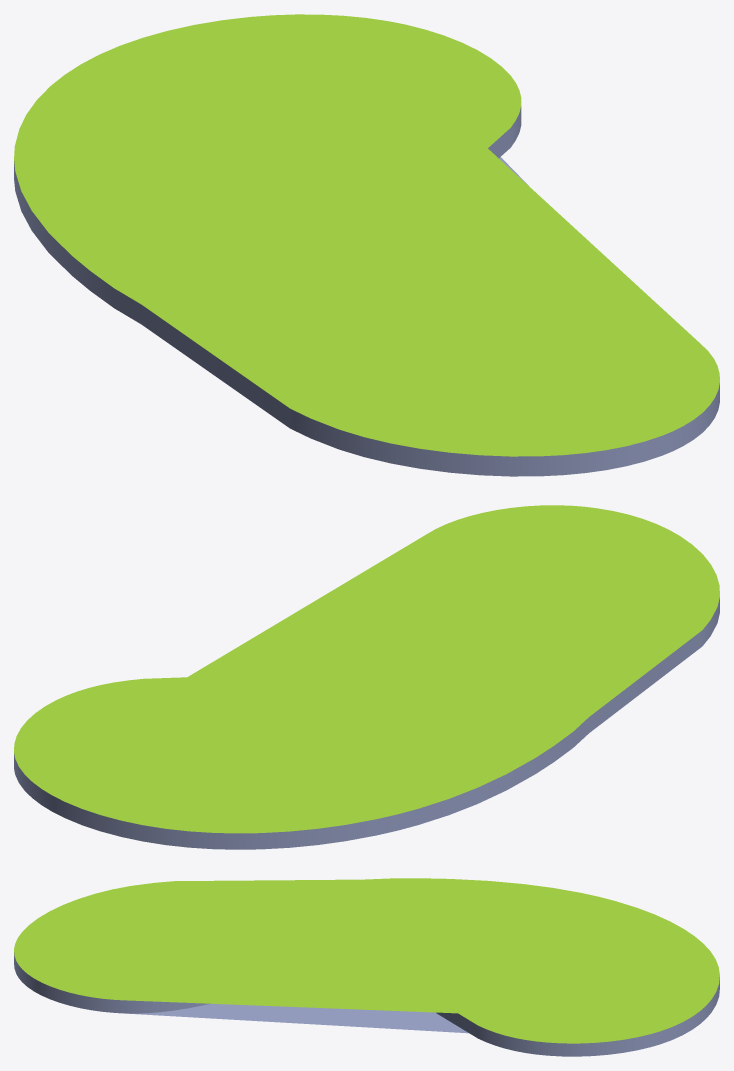
The model's file is Lastholes2.fbx.
3 views of the same model, one above another, from view 1: azimuth 30°, elevation 25°; view 2: azimuth 150°, elevation 25°; view 3: azimuth 270°, elevation 25° (orthographic). The views are drawn at different scales.
Parts seen in each view (by area): view 1: green2; view 2: green2; view 3: green2.
Boxes of the visible parts, x1,y1,x2,y2 form: green2: (14, 14, 719, 476); green2: (14, 505, 719, 849); green2: (14, 878, 719, 1056).
Bounding box in the file's own units: 814 × 30 × 1469.
